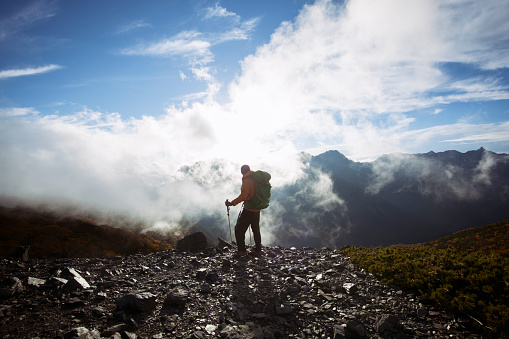em pe: (223, 163, 262, 258)
